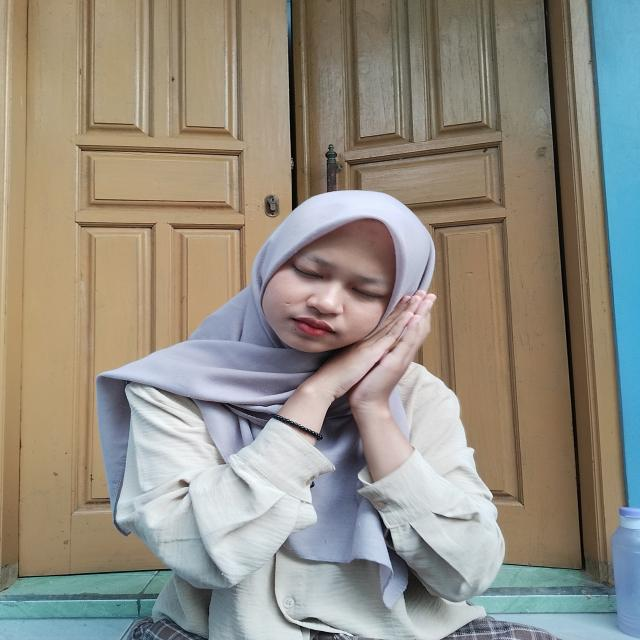tidur: (236, 294, 432, 471)
